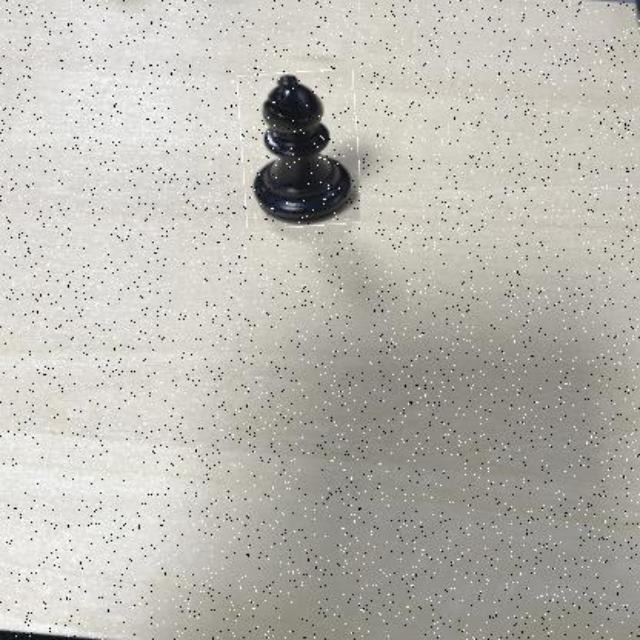black-bishop: (239, 71, 359, 227)
